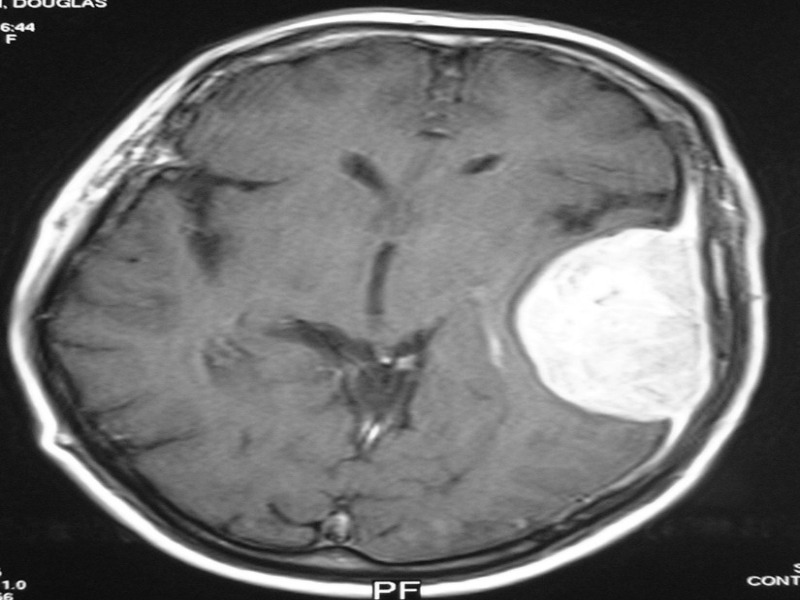tumor: (504, 210, 724, 425)
